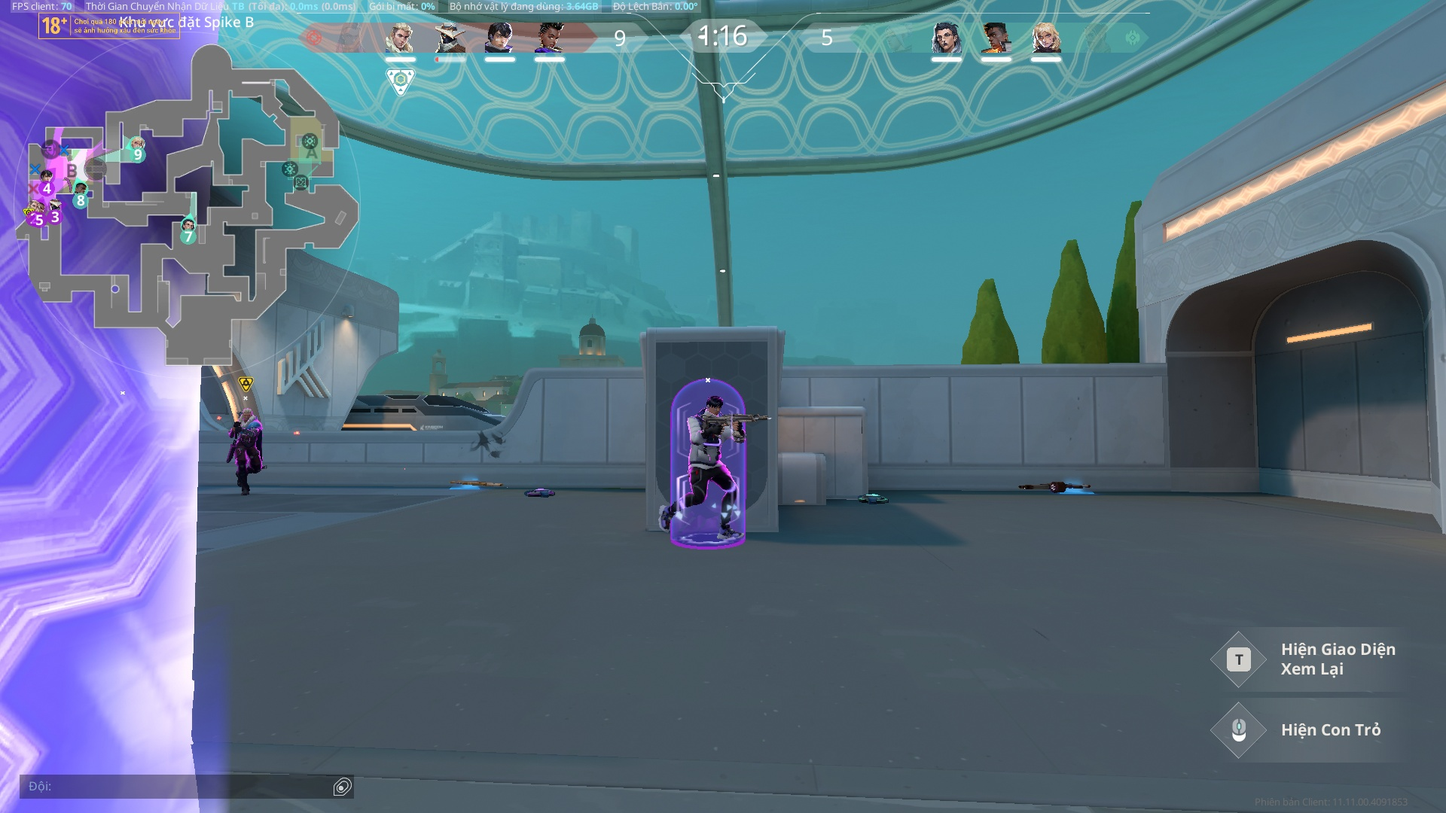body: (687, 411, 742, 461), (231, 418, 263, 446)
head: (706, 394, 725, 421), (240, 407, 255, 420)
